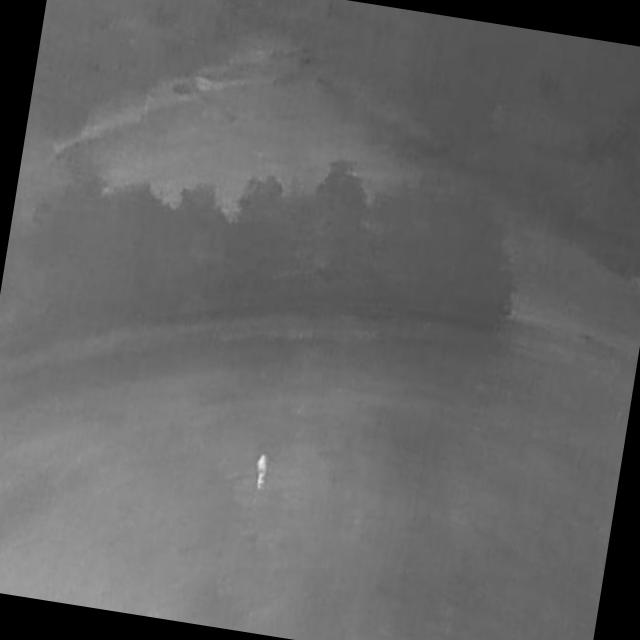person: (254, 453, 271, 492)
